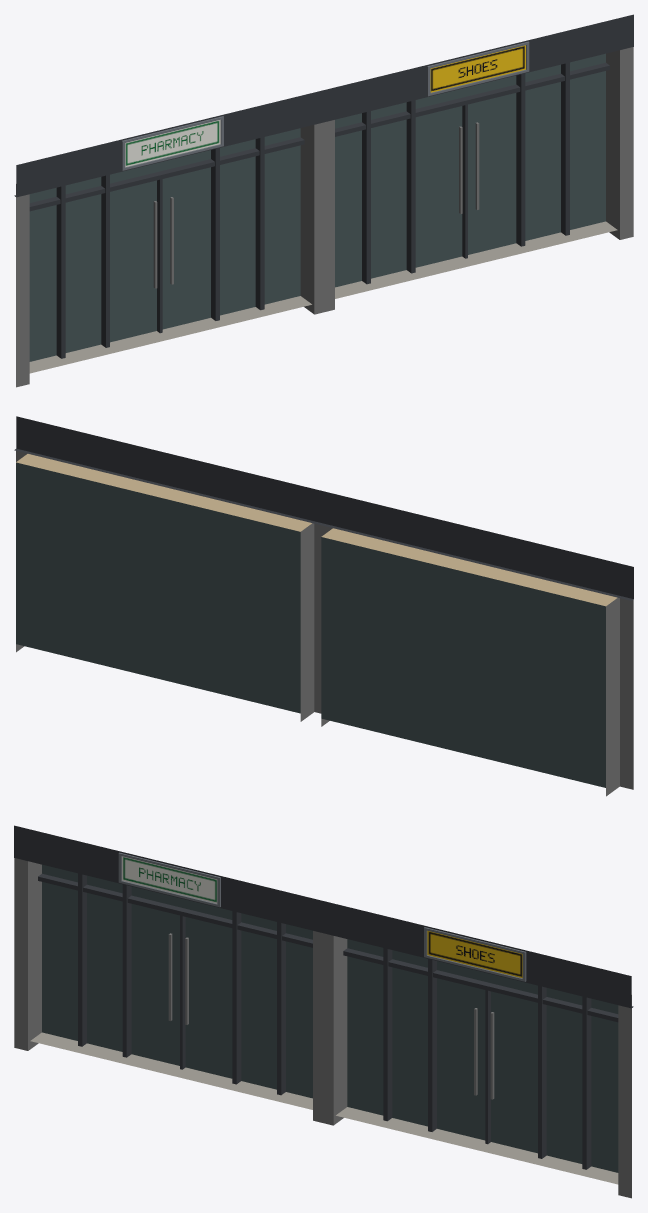
File: base-w1_close.fbx
3 views of the same model, one above another, from view 1: azimuth 30°, elevation 25°; view 2: azimuth 150°, elevation 25°; view 3: azimuth 330°, elevation 25° (orthographic).
Parts seen in each view (by area): view 1: a2006/750/base-w1_close; view 2: a2006/750/base-w1_close; view 3: a2006/750/base-w1_close.
Part boxes in pixels (x1,y1,x2,y2): a2006/750/base-w1_close: (14,14,633,387); a2006/750/base-w1_close: (14,416,633,796); a2006/750/base-w1_close: (14,825,633,1198).
Bounding box in the file's own units: 9 × 3.1 × 0.38.
